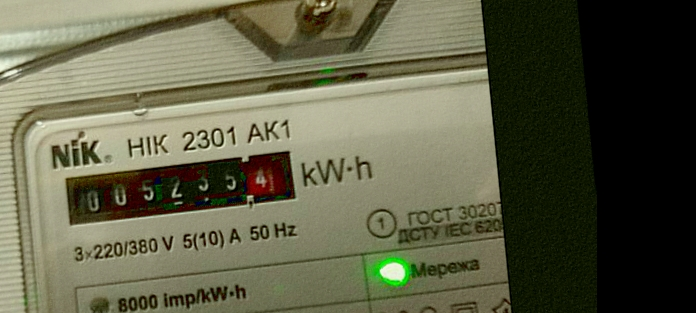0: (84, 186, 101, 213), (111, 182, 128, 207)
2: (166, 172, 184, 200)
3: (192, 167, 212, 193)
4: (250, 161, 271, 192)
5: (220, 163, 239, 192), (139, 176, 155, 202)
screen: (50, 139, 306, 235)
